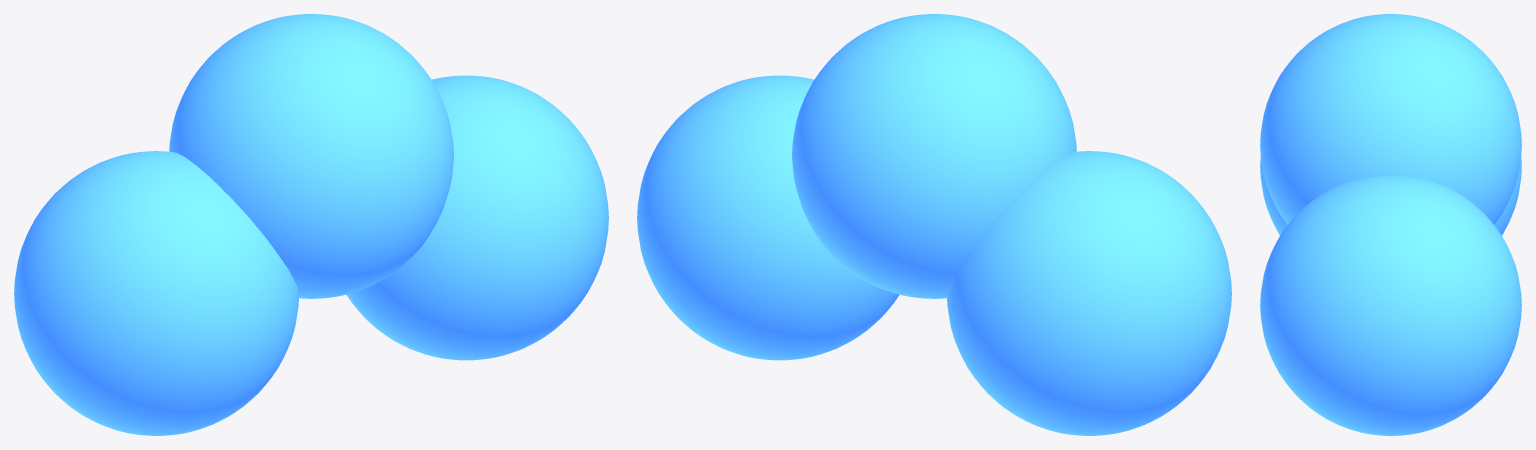
3 renders of one model, left to right at view 1: azimuth 30°, elevation 25°; view 2: azimuth 150°, elevation 25°; view 3: azimuth 270°, elevation 25°, orthographic. The views are drawn at different scales.
Visible parts, largest first — view 1: count (×3); view 2: count (×3); view 3: count (×3).
Boxes of the visible parts, <box> form: count (×3): <box>14,14,608,435</box>; count (×3): <box>637,14,1231,435</box>; count (×3): <box>1260,14,1521,435</box>.
Bounding box in the file's own units: 0.3065 × 0.1882 × 0.136.
